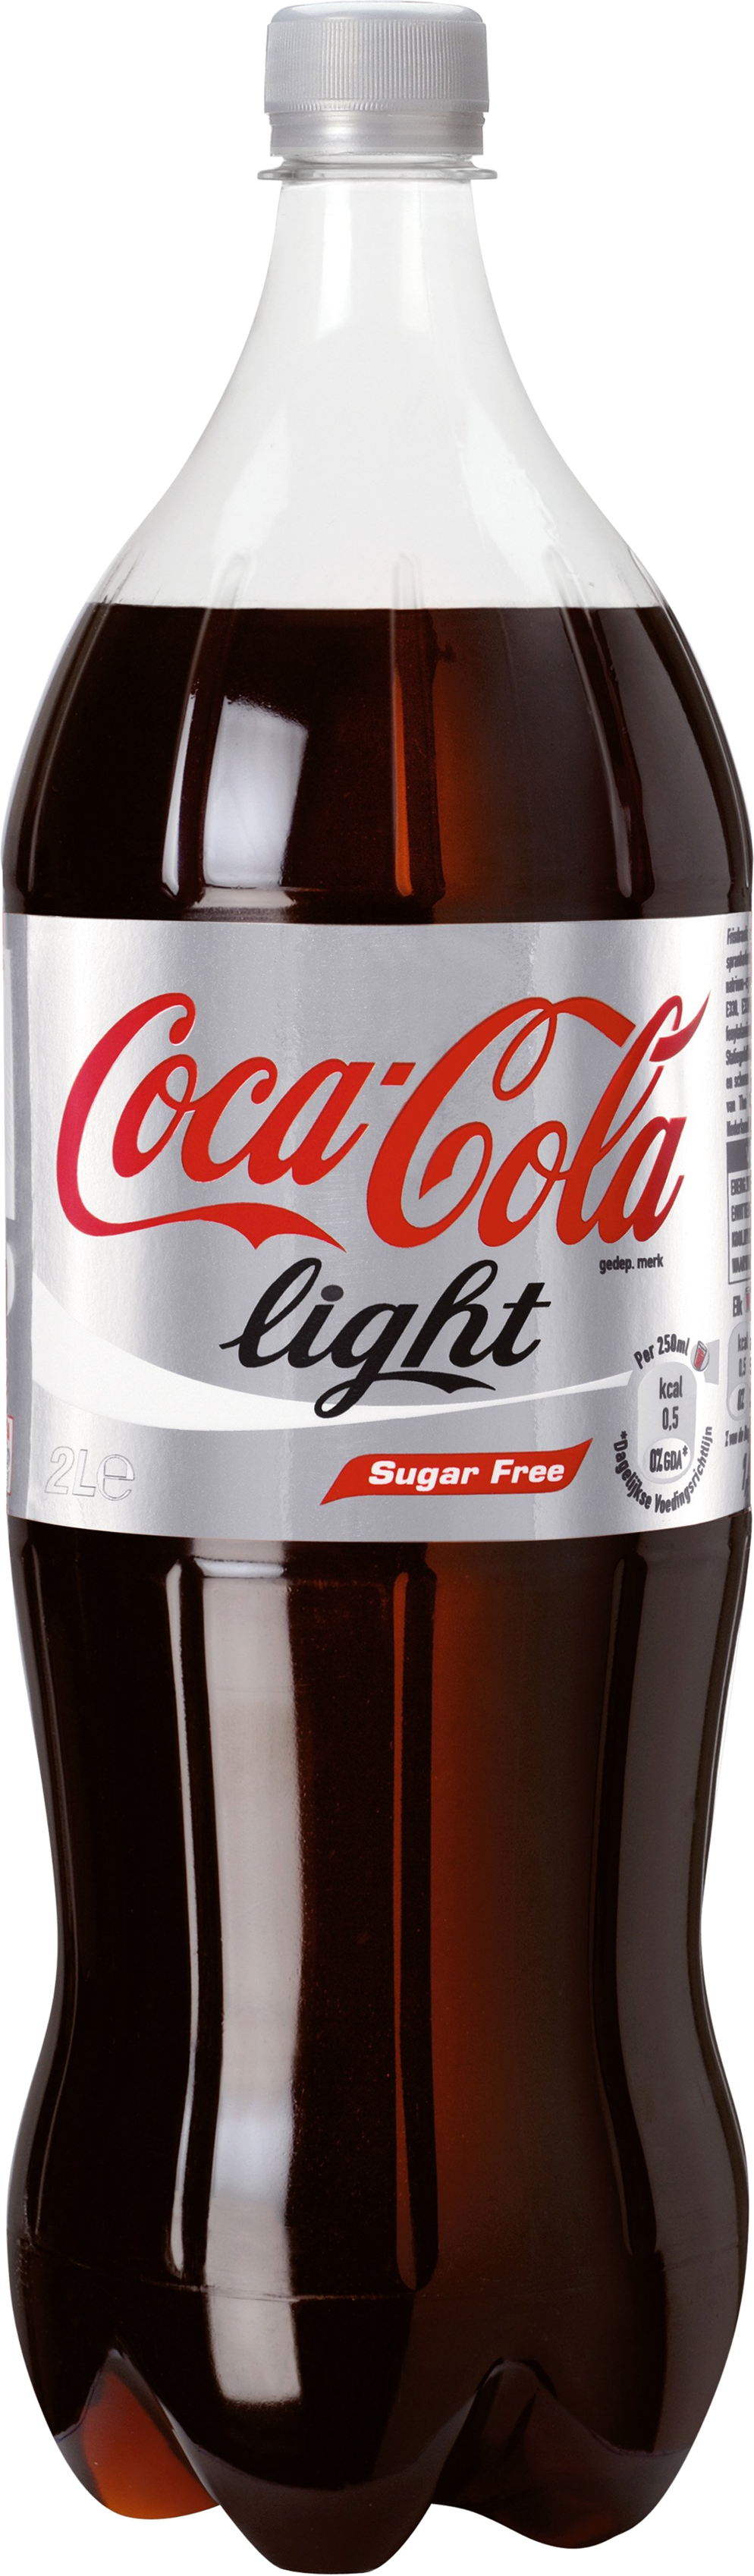coca_cola_bottle: (3, 3, 754, 2546)
